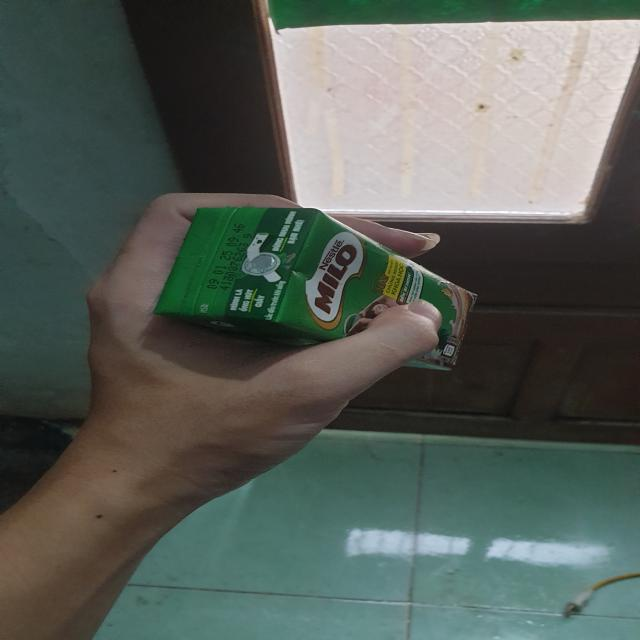Milo: (153, 207, 481, 376)
